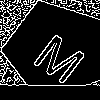M: (30, 25, 94, 86)
